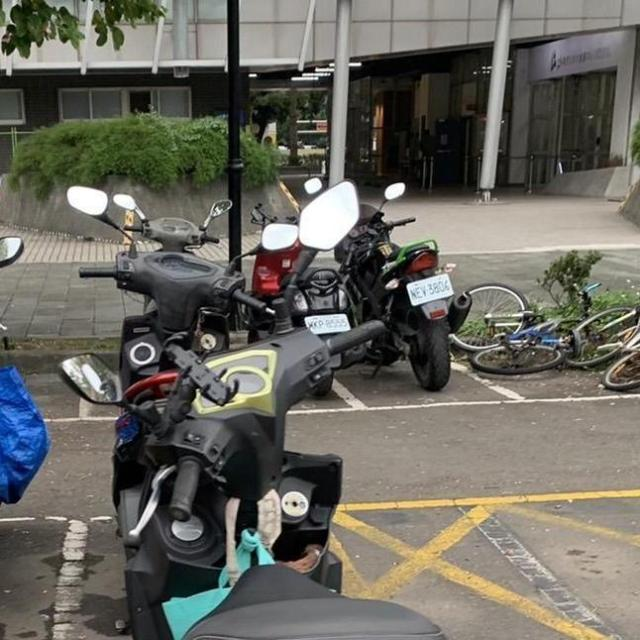W: (399, 269, 459, 310), (302, 309, 353, 336)
